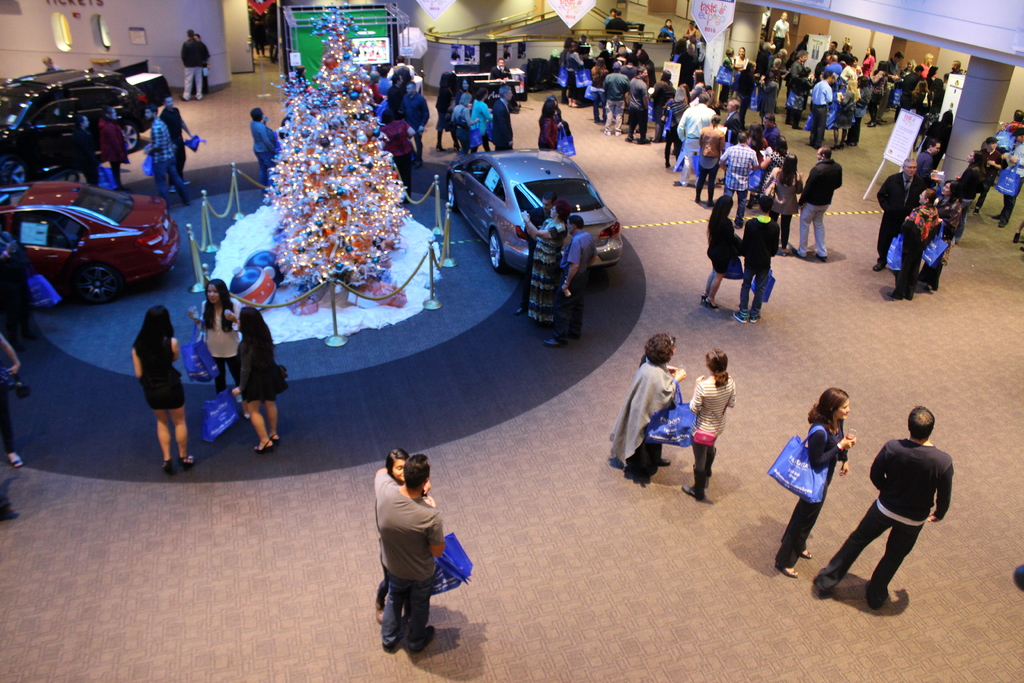cars: (0, 179, 179, 306), (447, 152, 623, 274), (0, 69, 152, 186)
